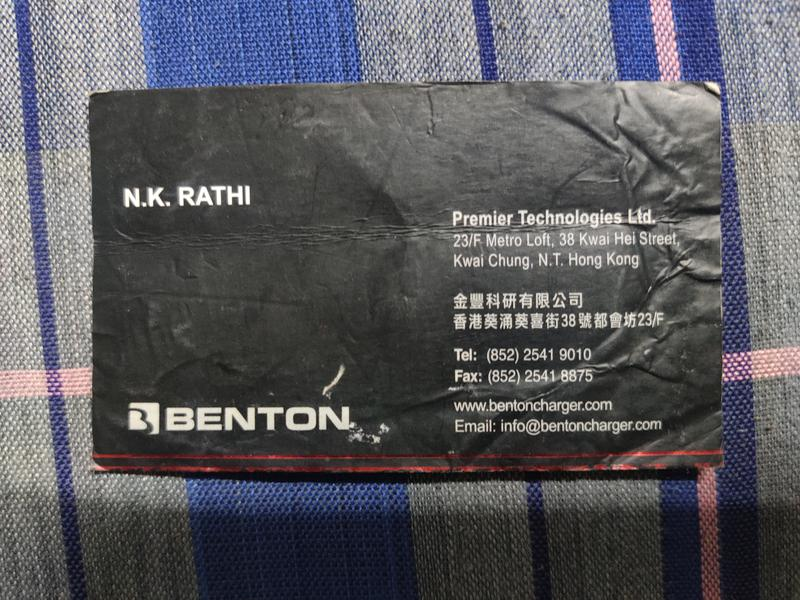card: (80, 78, 733, 479)
